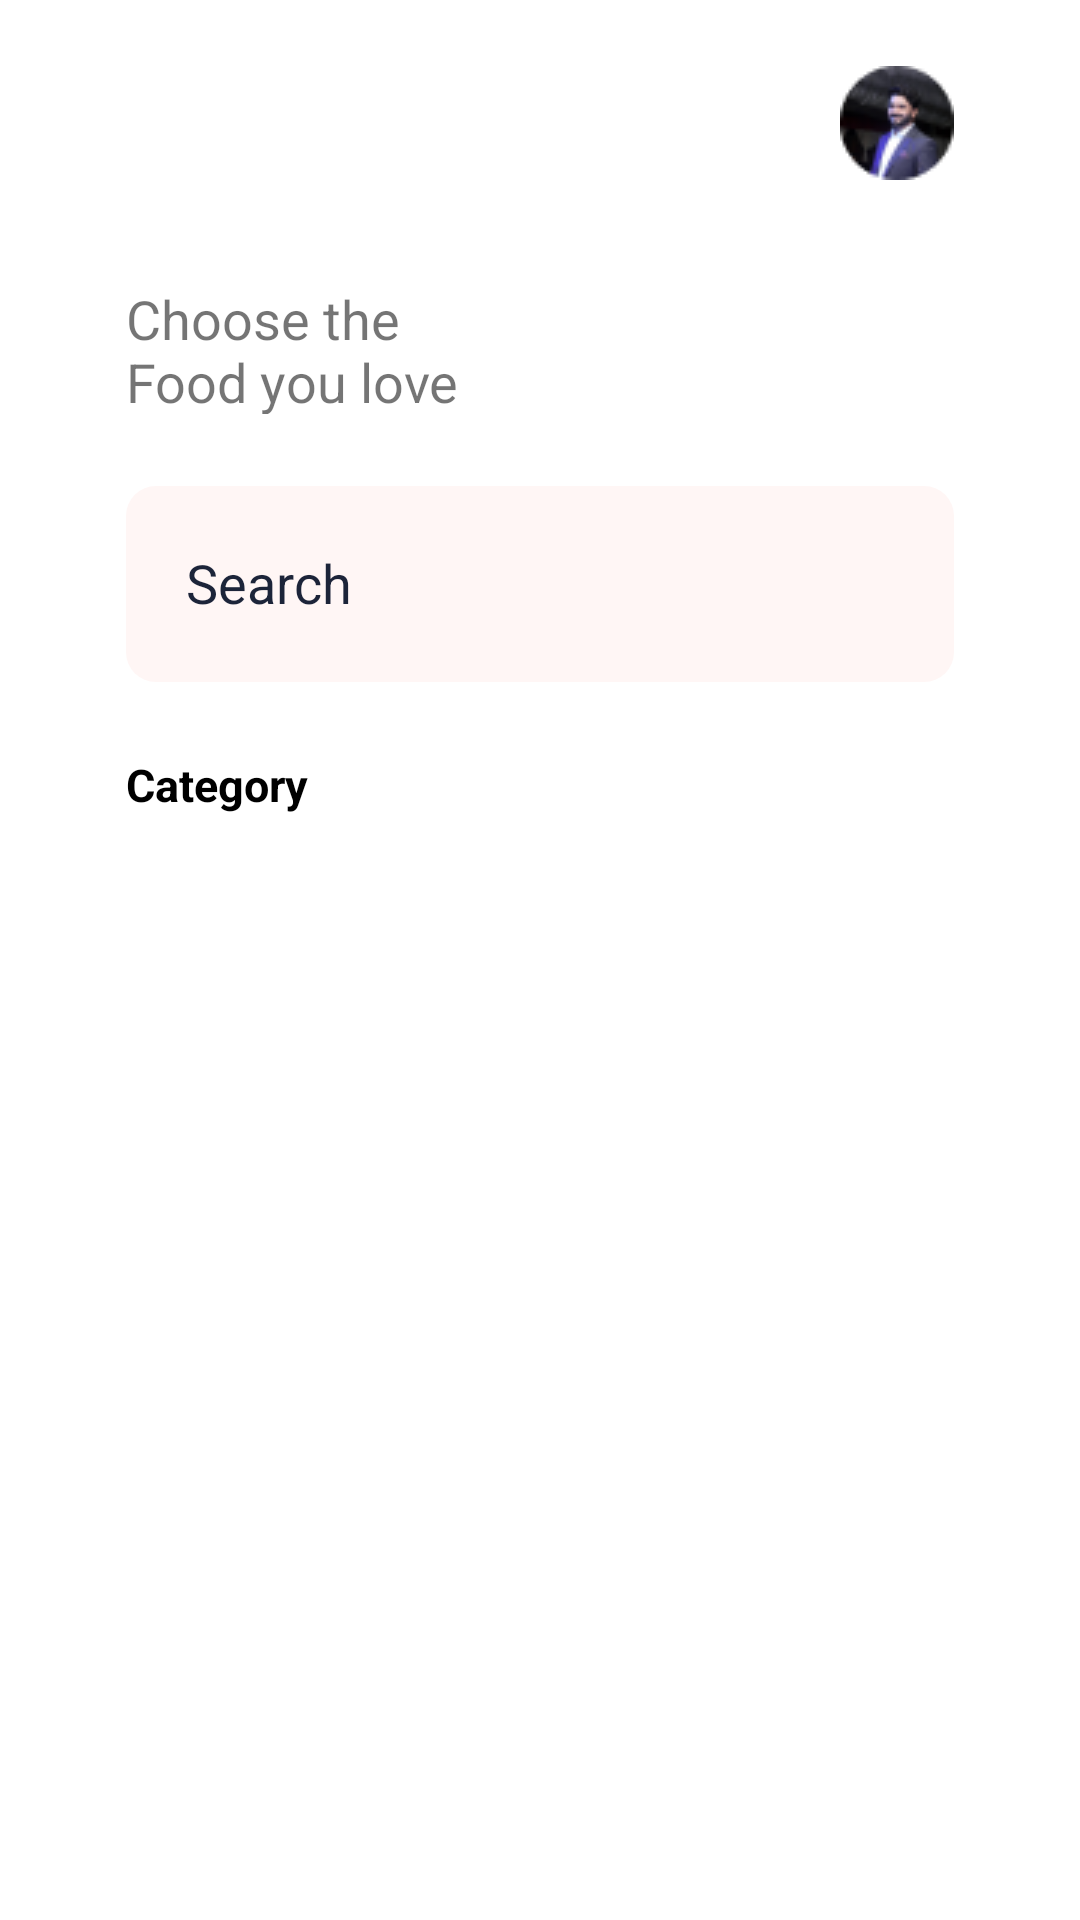

Where to tap for icons on this 1080x1920 app screen, as point (x, y):
man: point (897, 123)
